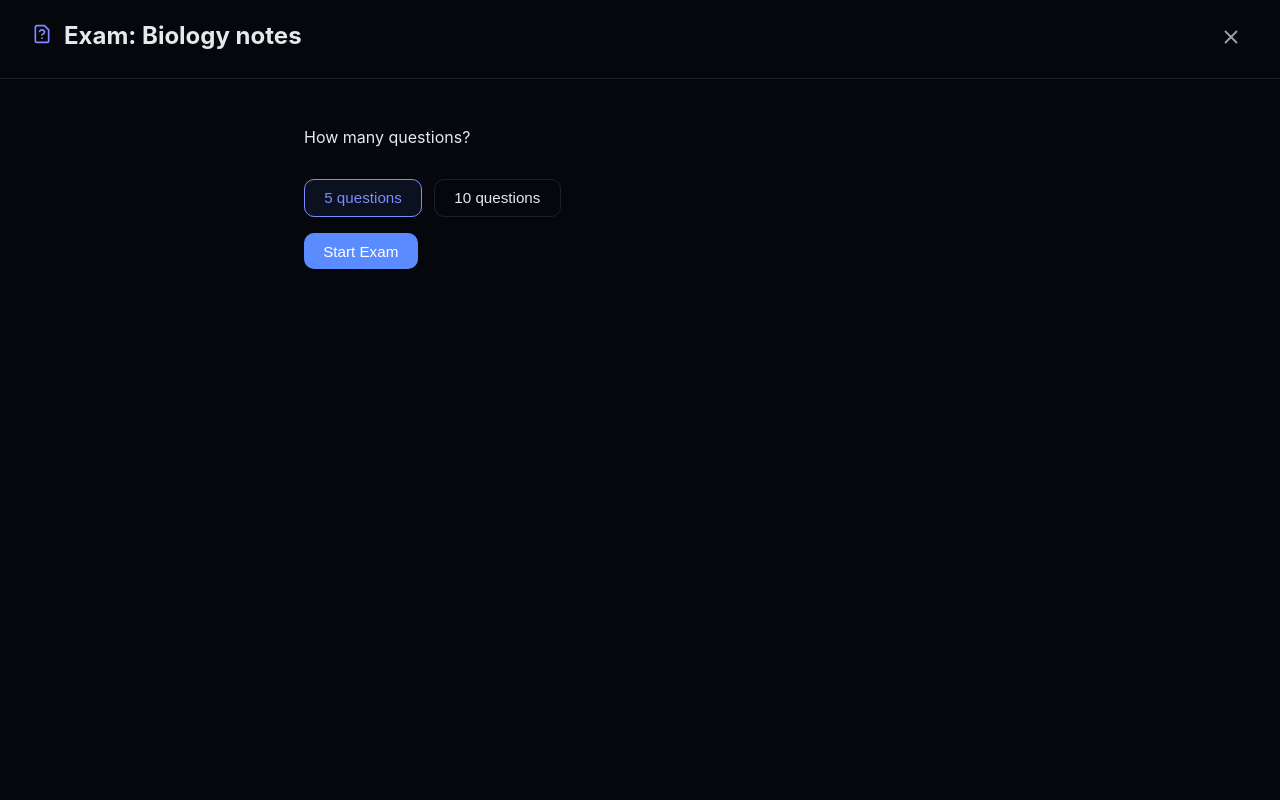
Test case: ExamModal › shows an error and returns to the choose step if generation fails
Click the button "Start Exam".
click(361, 251)  # box [304,233,418,269]
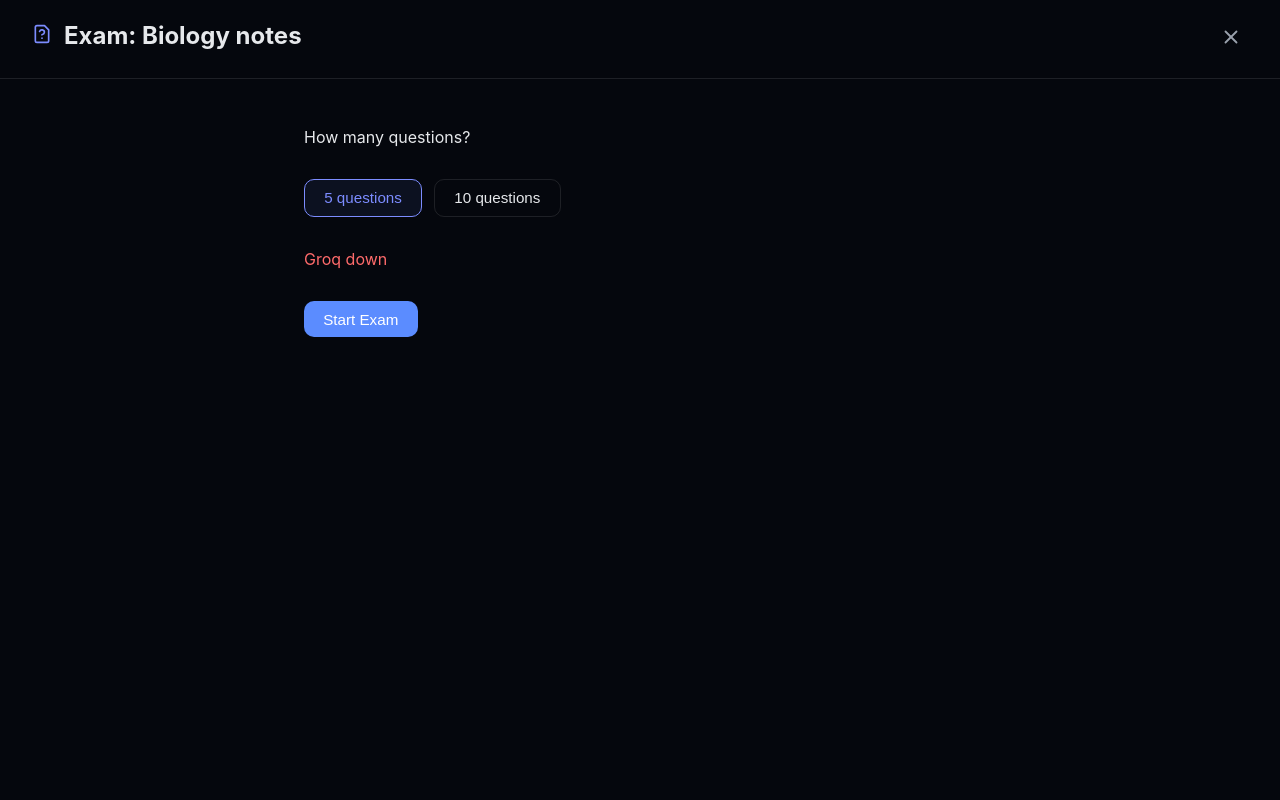
Check: the button "Start Exam" is shown, box [304,301,418,337]
Check: the text "Groq down" is shown, box [304,249,387,269]
